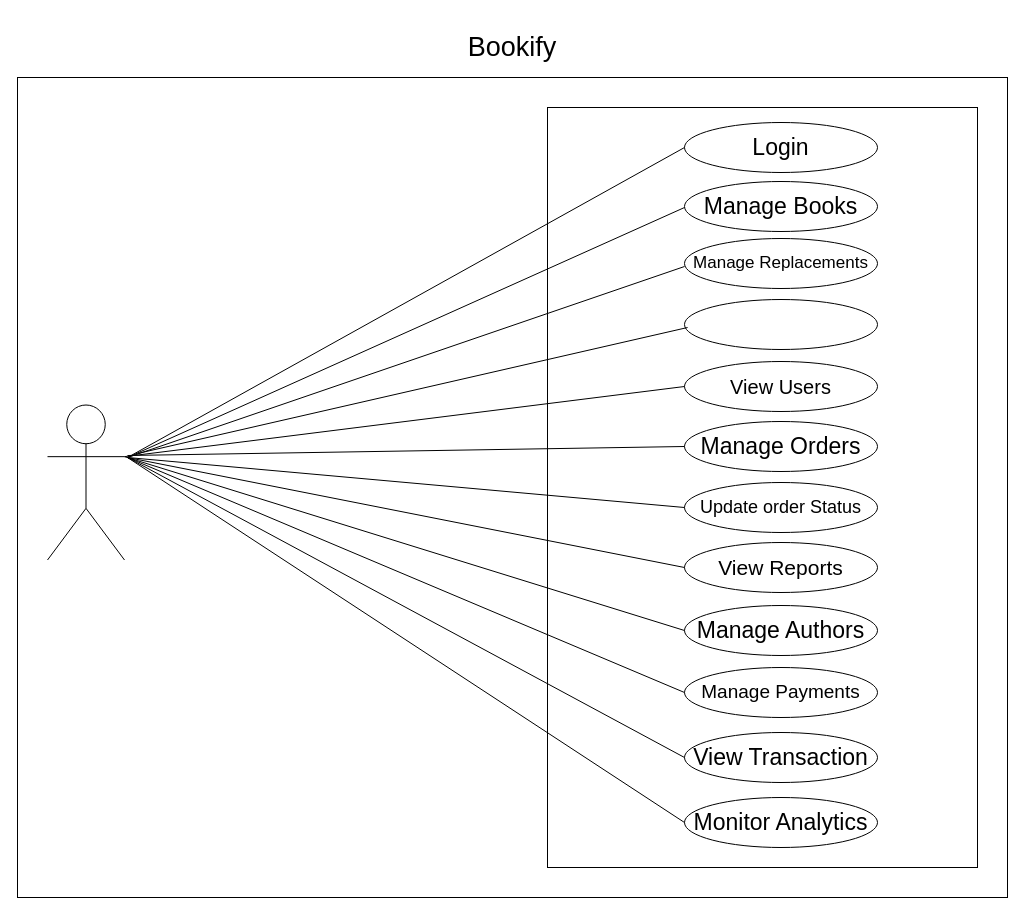
The diagram is 1025 pixels wide and 915 high, and some of its shapes have lost their labels. Each missing label, with the box of its shape:
Admin: (46, 404, 124, 560)
Manage Returns: (684, 298, 878, 350)
